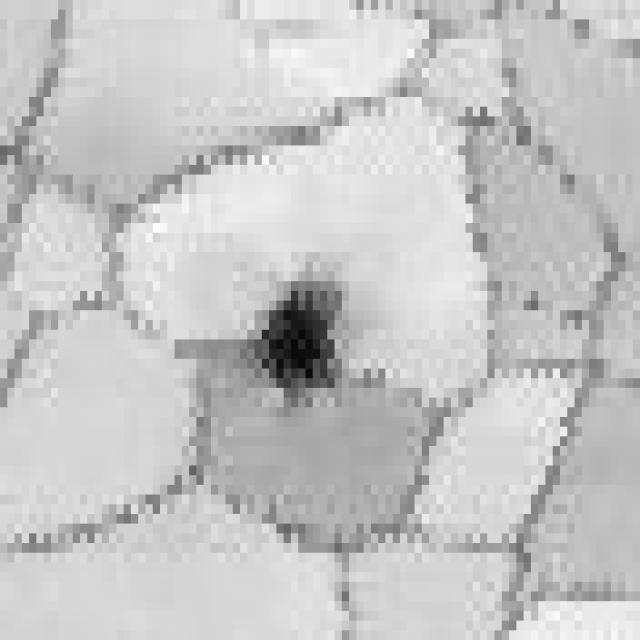good_void: (231, 260, 356, 409), (521, 291, 549, 320)
